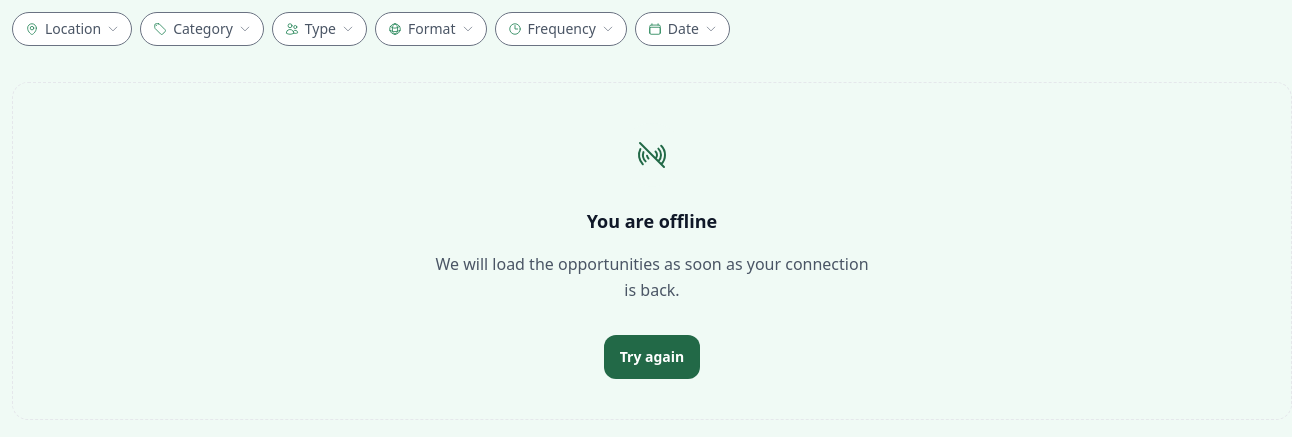
opportunity list while offline › recovers on the manual retry alone, with no online event
This screenshot has width=1292, height=437.
Click the button "Try again": (652, 357) [604,335,700,379]
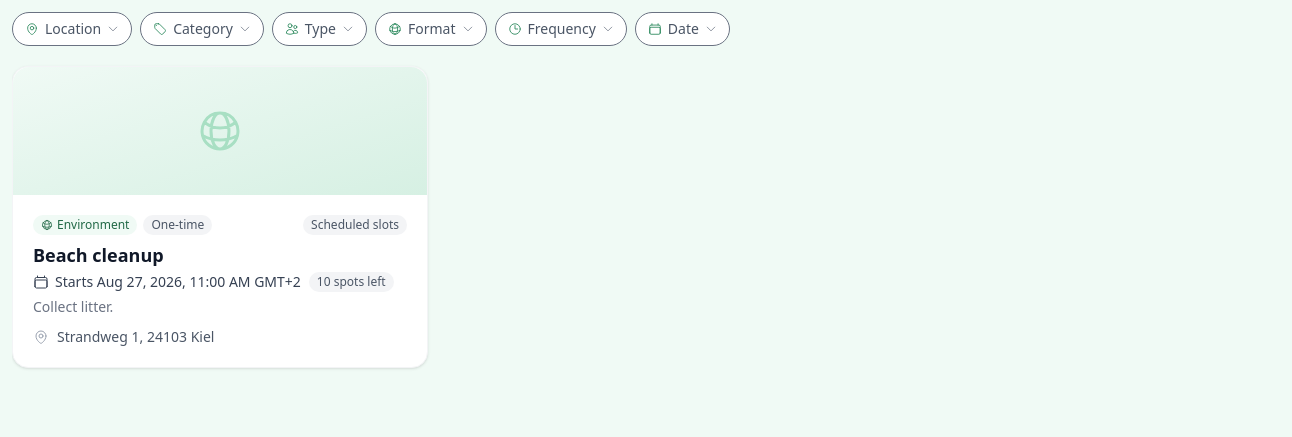
Now the element with test id "opportunities-offline" is gone
Now the element with test id "opportunity-date-line" is shown, box [33,272,301,292]
